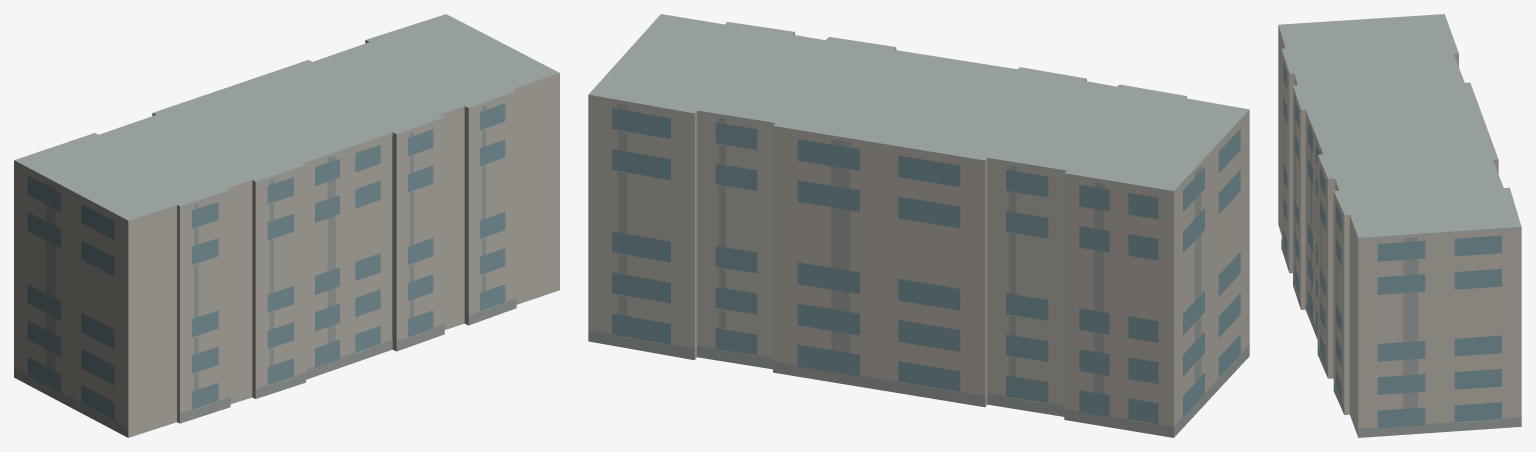
File: survey-upis-32968079.glb
3 renders of one model, left to right at view 1: azimuth 30°, elevation 25°; view 2: azimuth 150°, elevation 25°; view 3: azimuth 270°, elevation 25°, orthographic. The views are drawn at different scales.
Visible parts, largest first — view 1: survey-upis-32968079.tmp; view 2: survey-upis-32968079.tmp; view 3: survey-upis-32968079.tmp.
Part boxes in pixels (x1,y1,x2,y2): survey-upis-32968079.tmp: (14, 14, 559, 437); survey-upis-32968079.tmp: (588, 14, 1249, 437); survey-upis-32968079.tmp: (1278, 14, 1521, 437).
Bounding box in the file's own units: 37.47 × 15.6 × 17.2.
